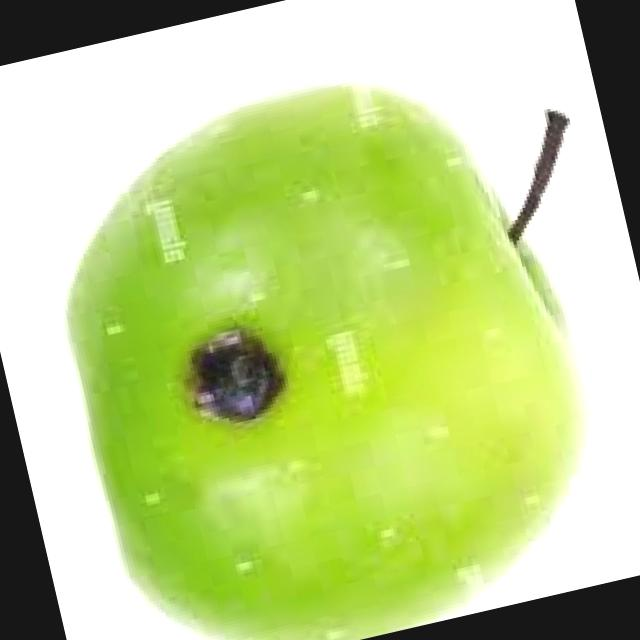Rotten Apple: (29, 48, 633, 640)
